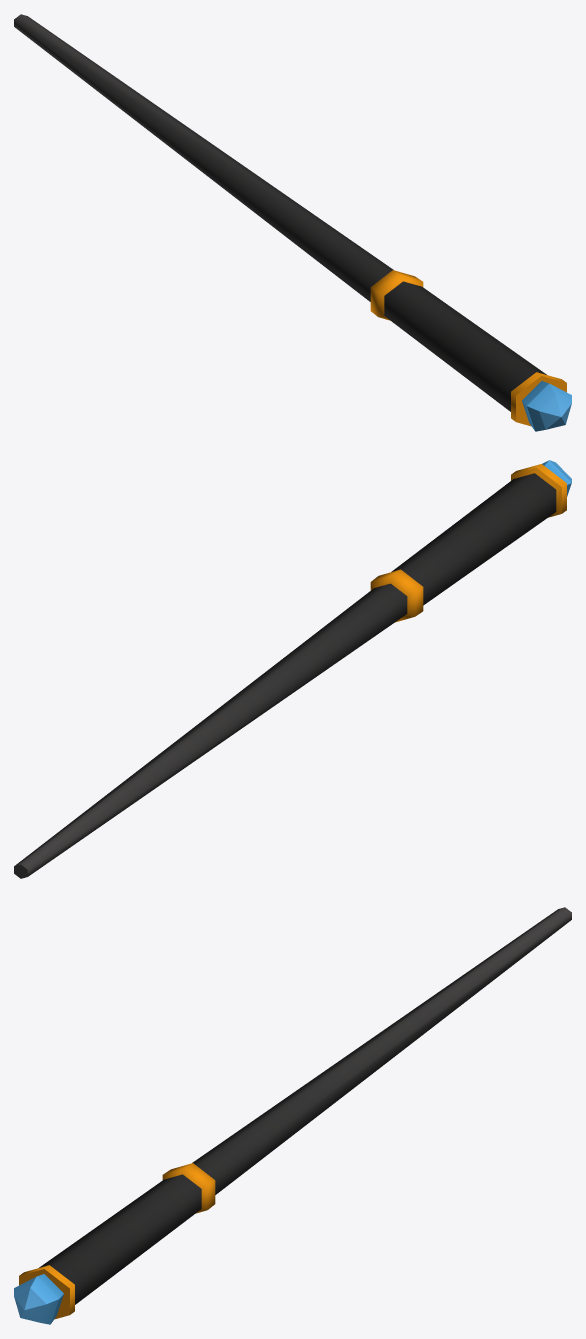
The model's file is Wand4.fbx.
3 renders of one model, top to bottom at view 1: azimuth 30°, elevation 25°; view 2: azimuth 150°, elevation 25°; view 3: azimuth 330°, elevation 25°, orthographic.
Parts seen in each view (by area): view 1: Wand4; view 2: Wand4; view 3: Wand4.
Boxes of the visible parts, box(x1,y1,x2,y2) form: Wand4: box(14, 14, 571, 431); Wand4: box(14, 460, 571, 878); Wand4: box(14, 907, 571, 1324).
Size of the model in its own units: 1.85 by 1.85 by 33.92.
